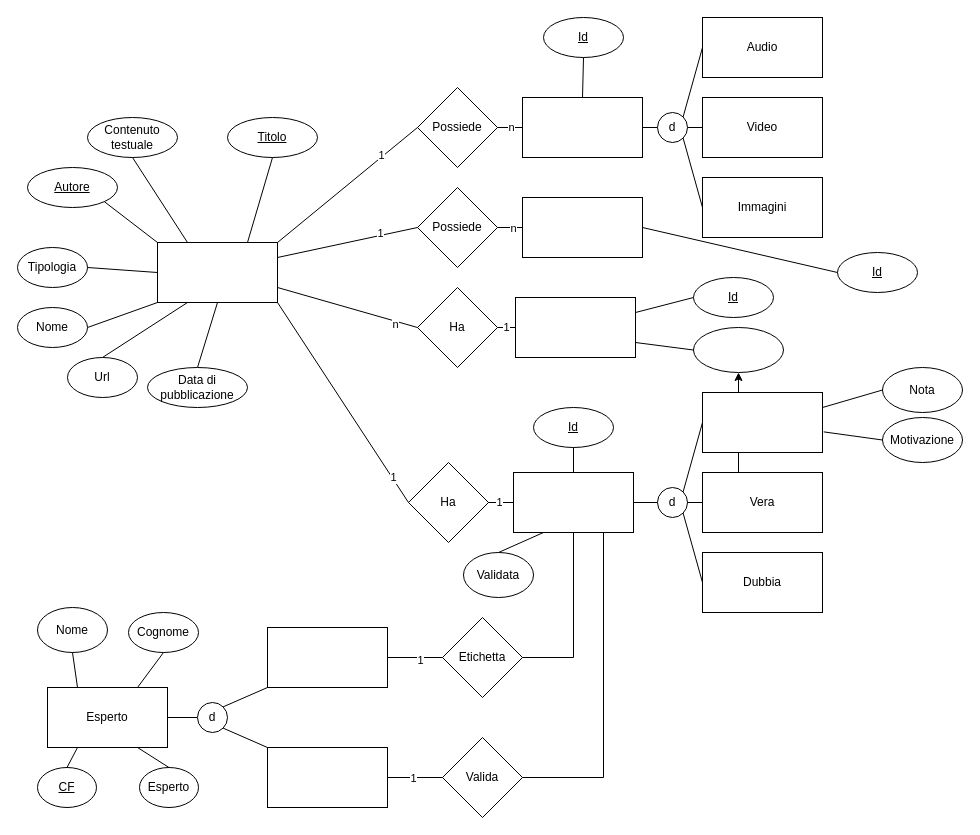
Image size: 980x835. Some labels were removed from this diagram. Each missing label, with the centre of its shape:
Argomento: pixel 738 349
Commento: pixel 582 227
Contenuto Multimediale: pixel 582 127
Fake: pixel 762 422
Junior: pixel 327 777
News: pixel 217 272
Result: pixel 573 502
Senior: pixel 327 657
Topic: pixel 575 327
